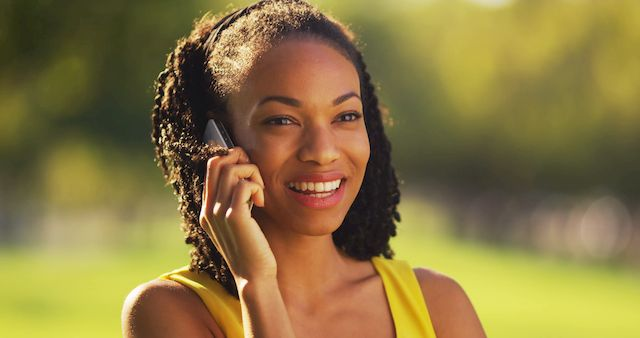phone: (192, 120, 271, 216)
talk: (192, 84, 377, 291)
